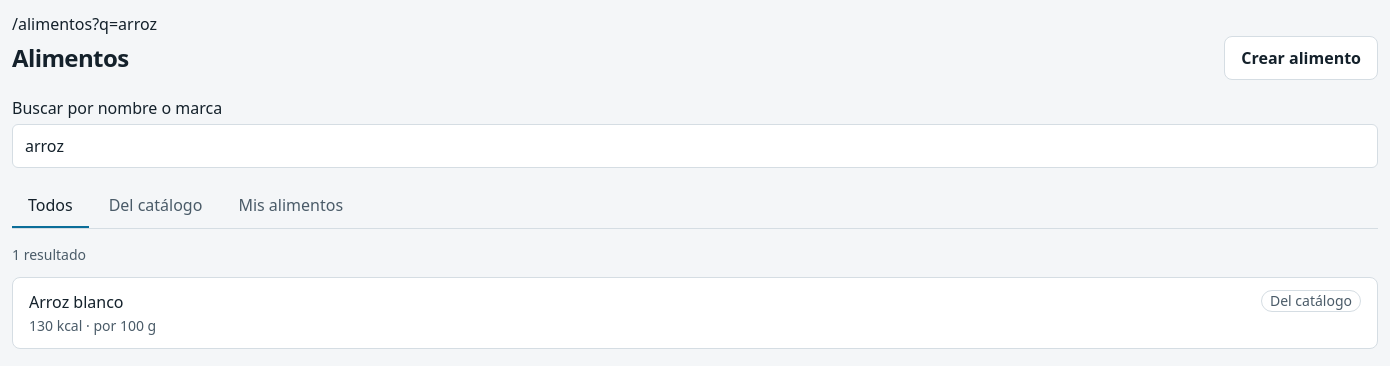
FoodSearchPage: estados (FR-009, FR-010) › no muestra resultados viejos mientras carga la búsqueda nueva
Expected: the text "Arroz blanco" is shown, [29,290,124,314]
Replace the text in the search field labelled "Buscar por nombre o marca" with "pan" at coordinates (695, 146), box [12,124,1378,168]
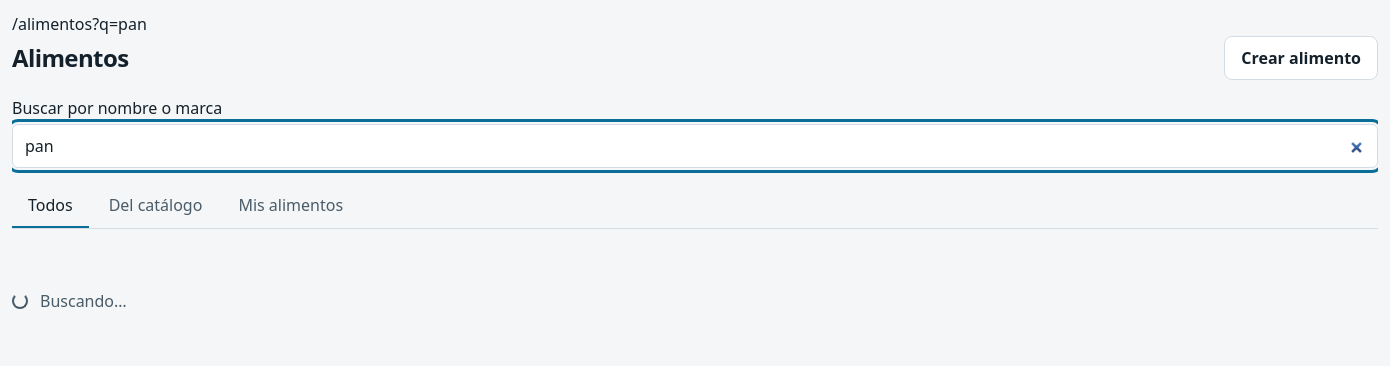
Result: the text "Buscando…" is shown at [40,289,127,313]
Result: the link "Arroz blanco" is gone
